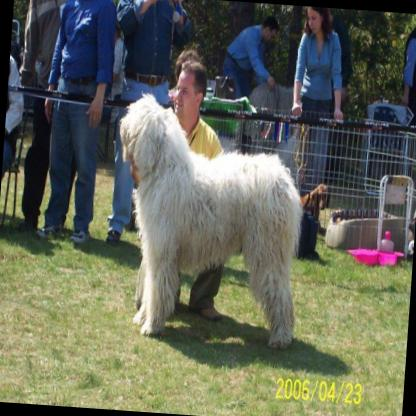komondor: (104, 89, 315, 363)
